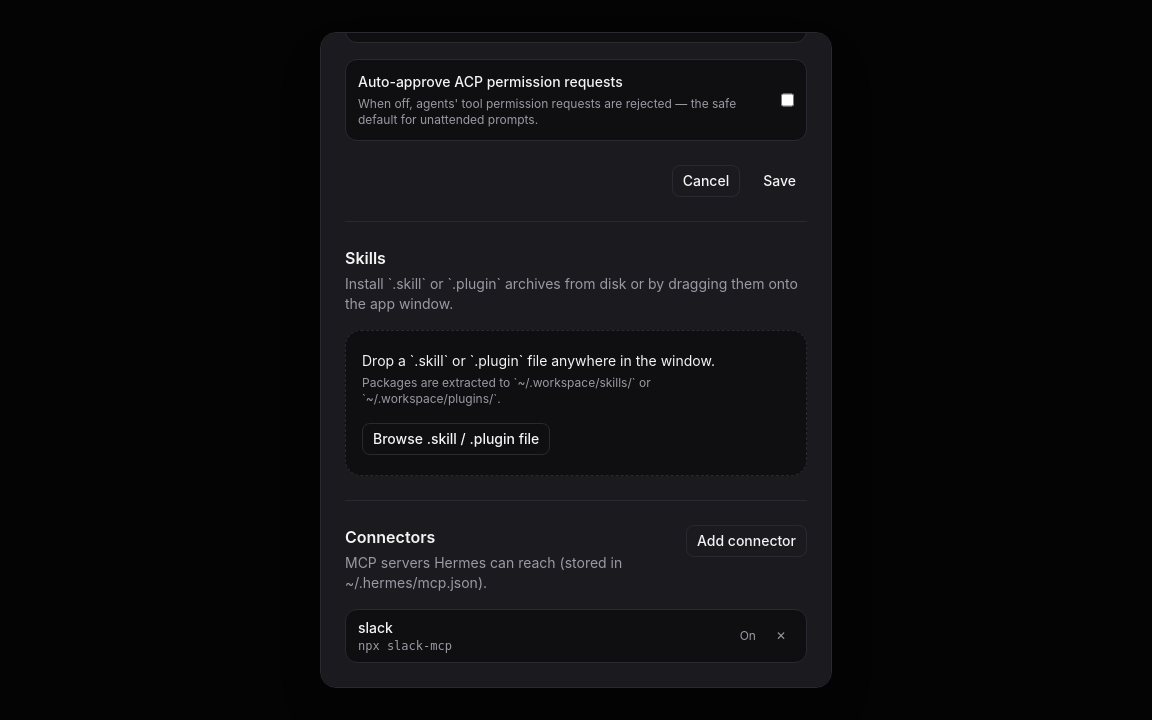
Scenario: Settings connectors section › removes a connector
(page scrolled)
Click the button named "Remove slack" at (781,636), box x1=768 y1=624 x2=794 y2=648
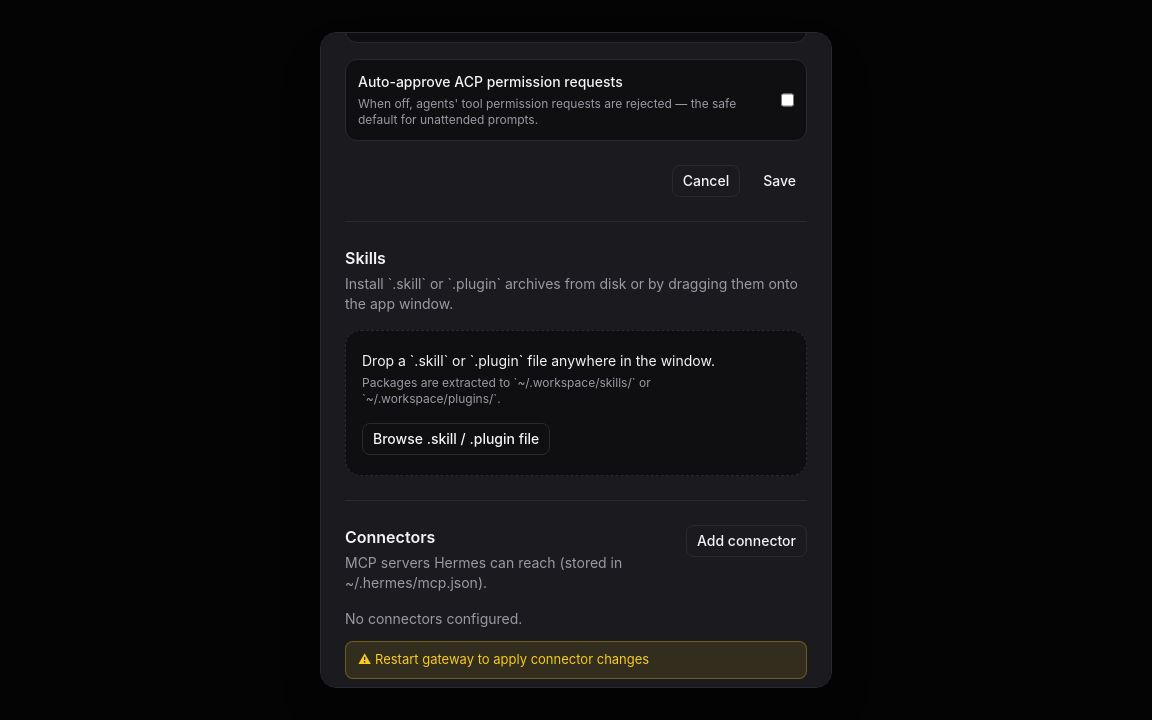
Check: the list item "No connectors configured." is shown, box x1=345 y1=610 x2=522 y2=627
